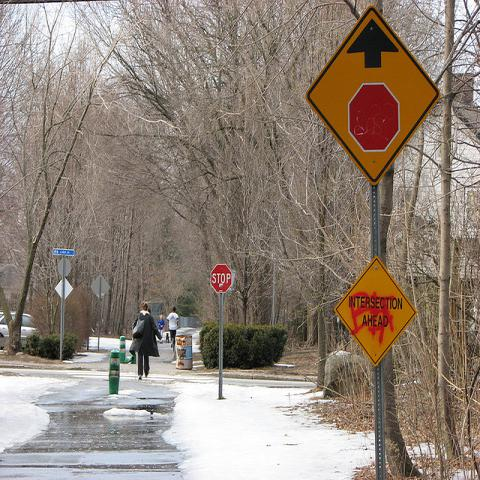car: (1, 310, 40, 339)
